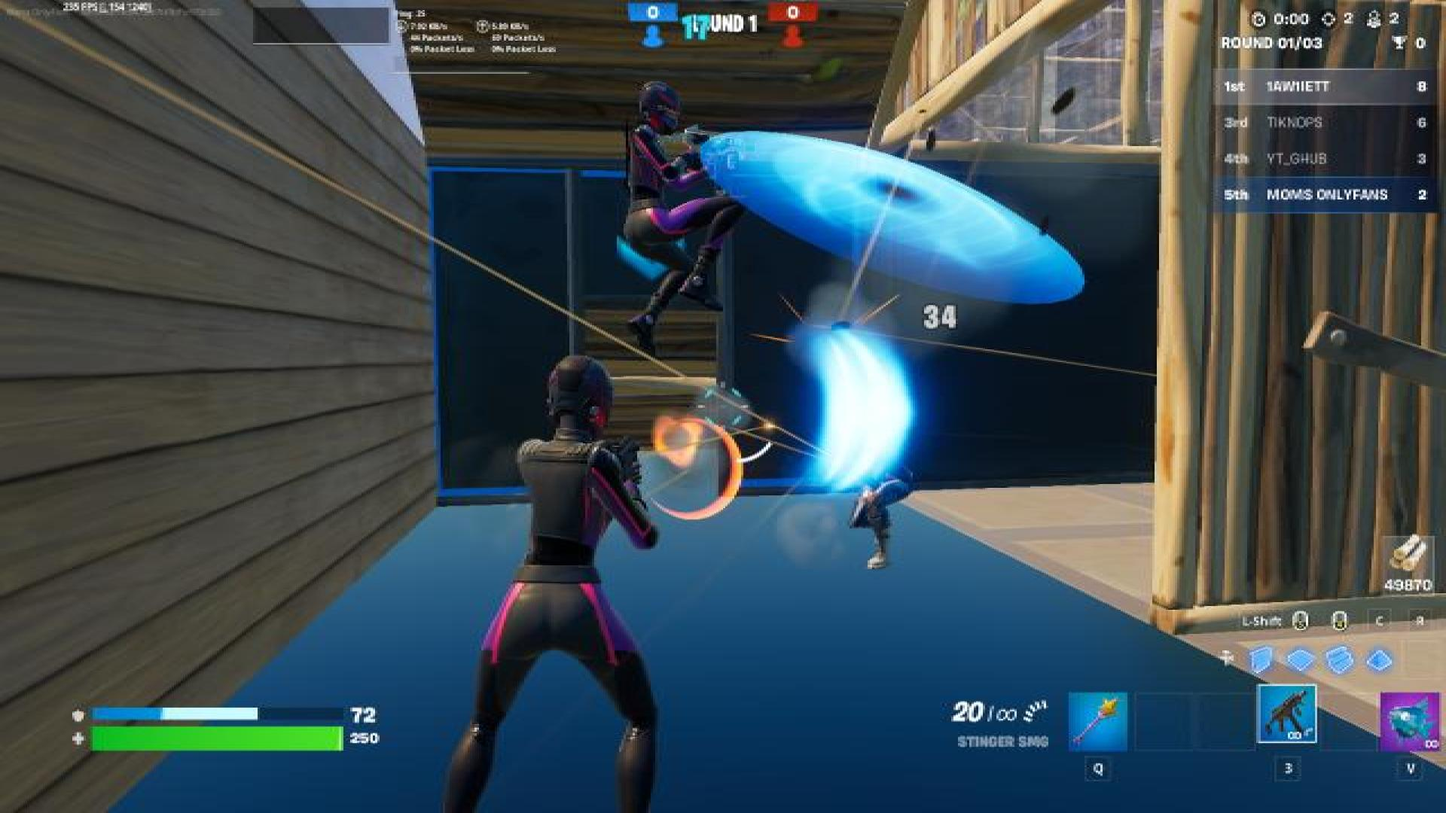player: (602, 78, 767, 323), (836, 445, 933, 565)
